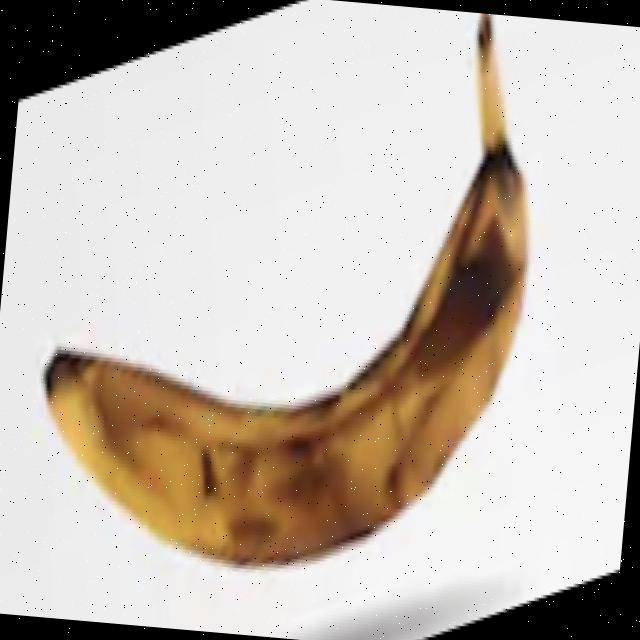rotten banana: (16, 103, 570, 614)
